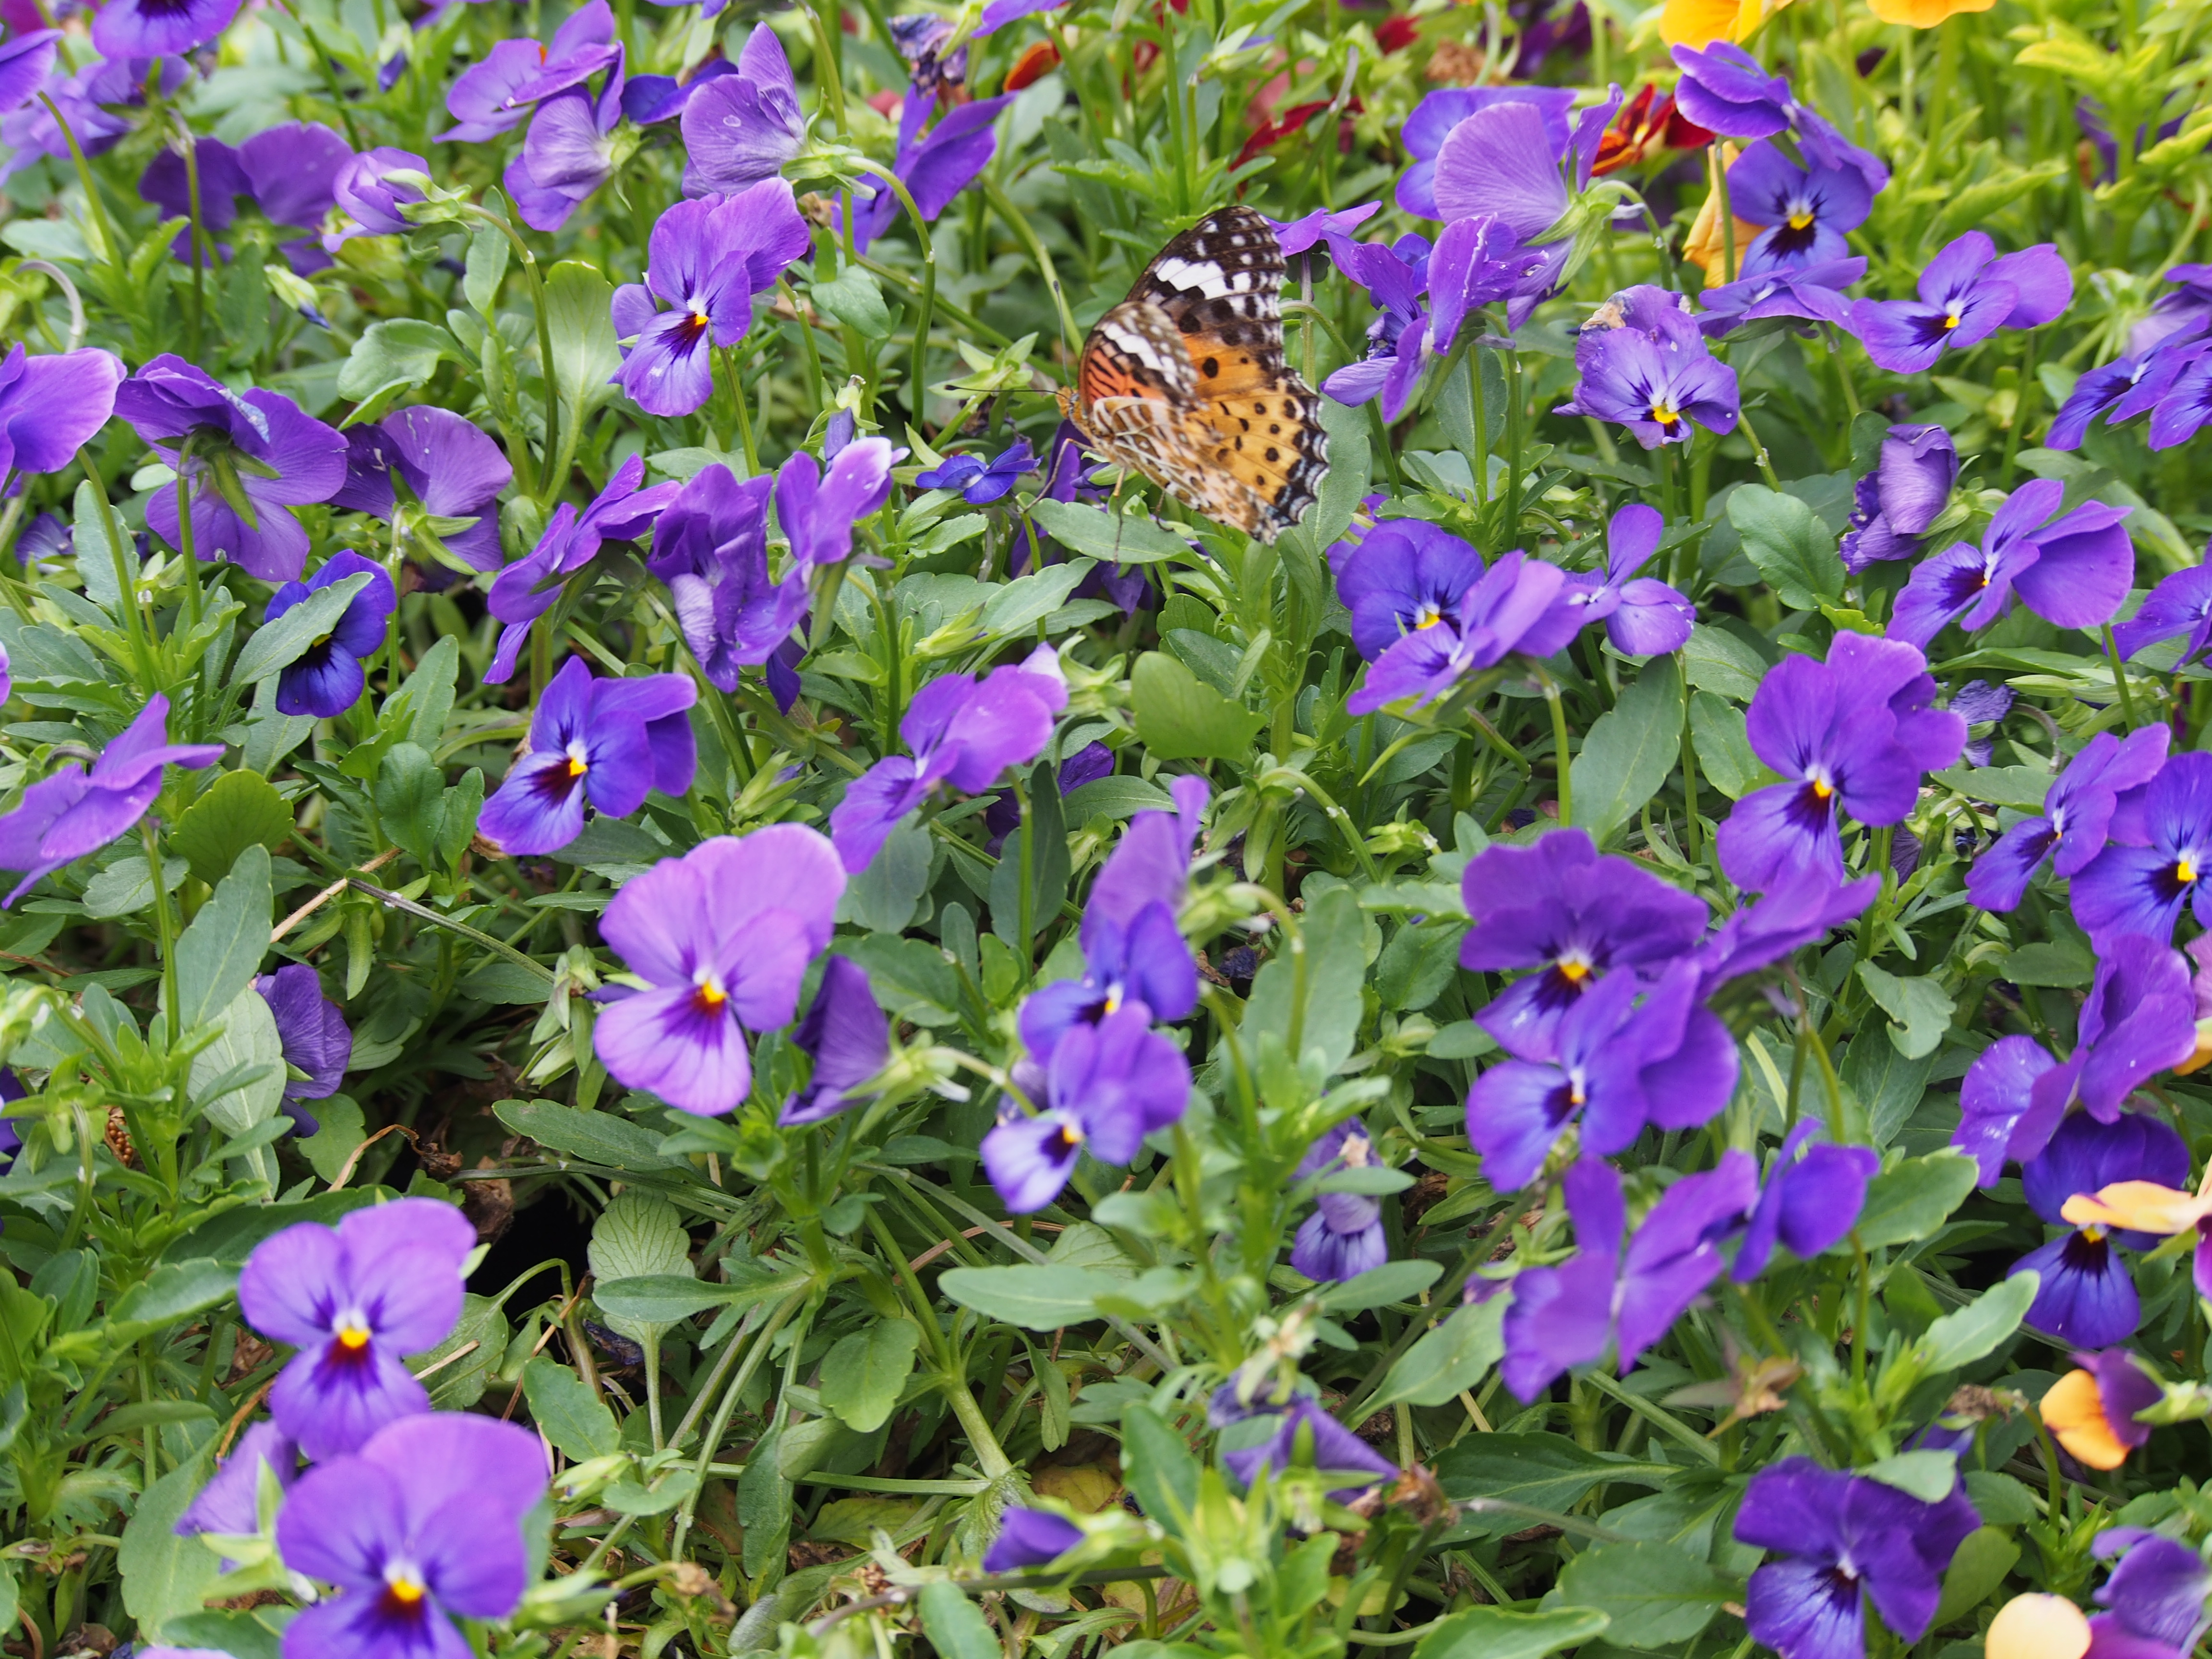Argyreus hyperbius: (1021, 197, 1348, 573)
butterfly: (1021, 195, 1346, 573)
